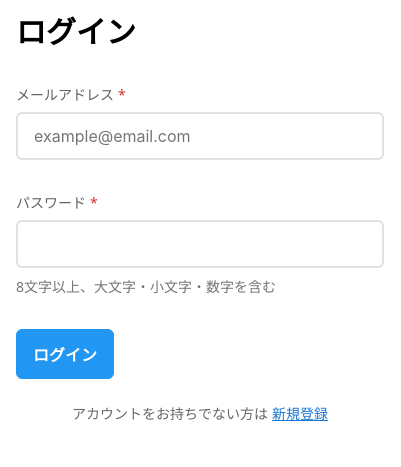
Scenario: LoginPage Component › should show validation error when email is empty
The width and height of the screenshot is (401, 467).
Step 1. Click the button "ログイン" → (65, 354), box left=16, top=329, right=114, bottom=379
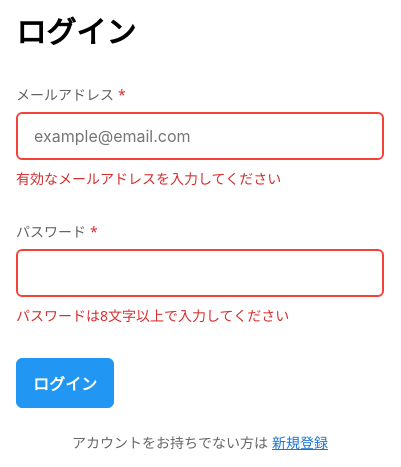
Result: the text "有効なメールアドレスを入力してください" is shown at left=16, top=169, right=281, bottom=188
